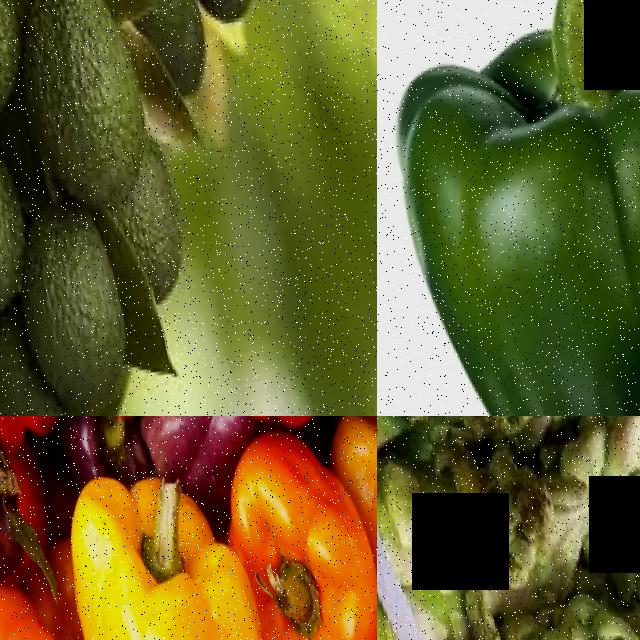asparagus: (377, 416, 598, 590), (451, 554, 640, 640)
avocado: (0, 176, 148, 416), (0, 0, 160, 214), (90, 112, 204, 300), (0, 254, 98, 416), (0, 91, 44, 324), (123, 0, 222, 99)
bell pepper: (377, 0, 640, 416), (50, 416, 242, 640), (208, 416, 368, 640), (0, 566, 78, 640)
